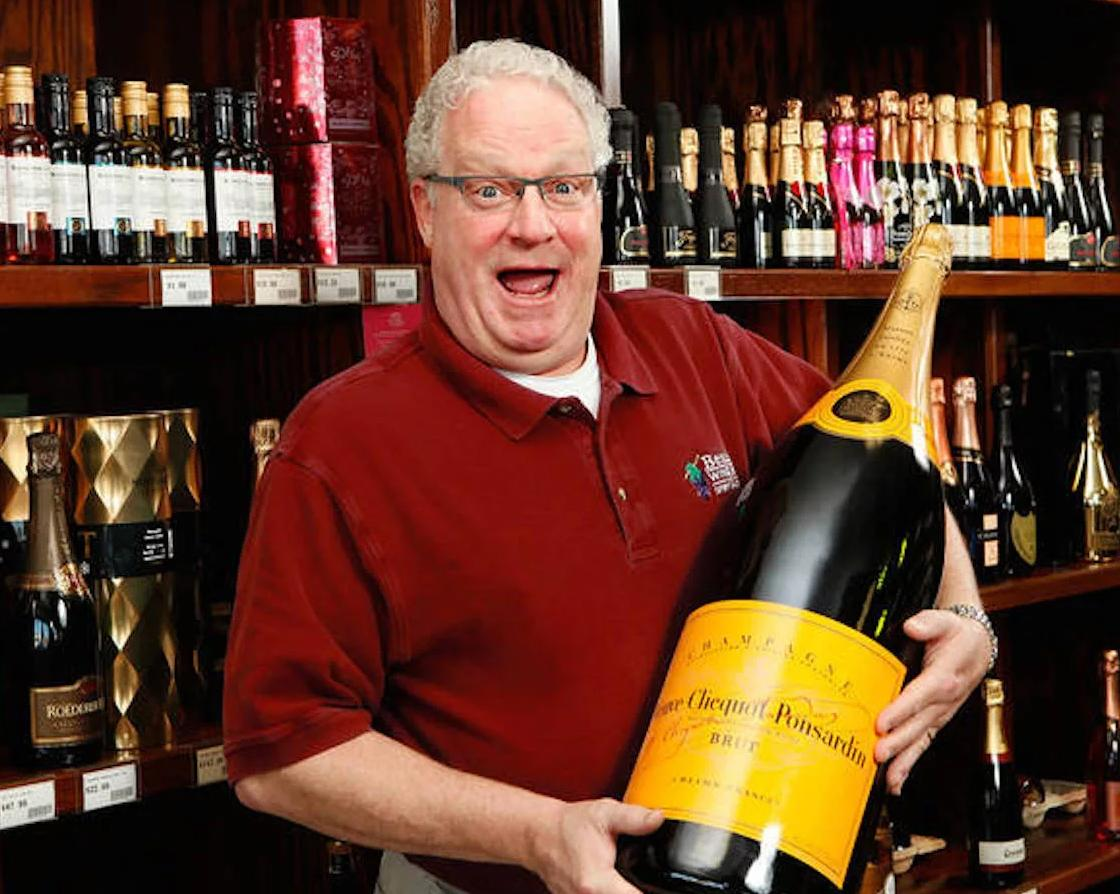wine bottle: (610, 220, 955, 894), (2, 430, 107, 775), (968, 678, 1026, 889), (1060, 367, 1120, 563), (953, 377, 1006, 586), (3, 65, 57, 261), (989, 380, 1039, 577), (83, 76, 134, 263), (41, 72, 89, 264), (161, 82, 211, 264), (206, 87, 255, 263), (650, 103, 698, 267), (125, 79, 166, 261), (237, 88, 279, 263), (604, 109, 651, 265), (1084, 648, 1120, 844), (695, 105, 739, 265), (877, 91, 916, 271), (982, 100, 1022, 269), (1058, 107, 1098, 272), (957, 94, 994, 271), (934, 96, 970, 271), (1009, 104, 1046, 270), (1035, 107, 1071, 271), (1085, 110, 1120, 272), (777, 118, 814, 270), (906, 92, 944, 234), (801, 120, 837, 267), (739, 121, 775, 267), (850, 124, 886, 270), (830, 125, 864, 270)
wine label: (621, 600, 909, 894), (33, 674, 106, 748), (9, 155, 53, 233), (89, 163, 134, 232), (212, 167, 254, 236), (166, 166, 207, 235), (133, 163, 166, 235), (53, 162, 86, 230), (1085, 490, 1119, 554), (981, 839, 1028, 873), (251, 174, 276, 235), (1011, 508, 1036, 566), (992, 215, 1022, 260), (1020, 214, 1046, 262), (977, 512, 998, 566), (661, 224, 695, 257), (1044, 222, 1069, 262), (1071, 230, 1097, 267), (620, 223, 649, 256), (711, 224, 739, 258), (782, 227, 813, 257), (0, 156, 13, 227), (967, 224, 992, 258), (889, 220, 914, 251), (951, 221, 968, 259), (1108, 781, 1120, 834), (813, 230, 836, 257), (1102, 234, 1120, 267), (759, 228, 776, 257)
